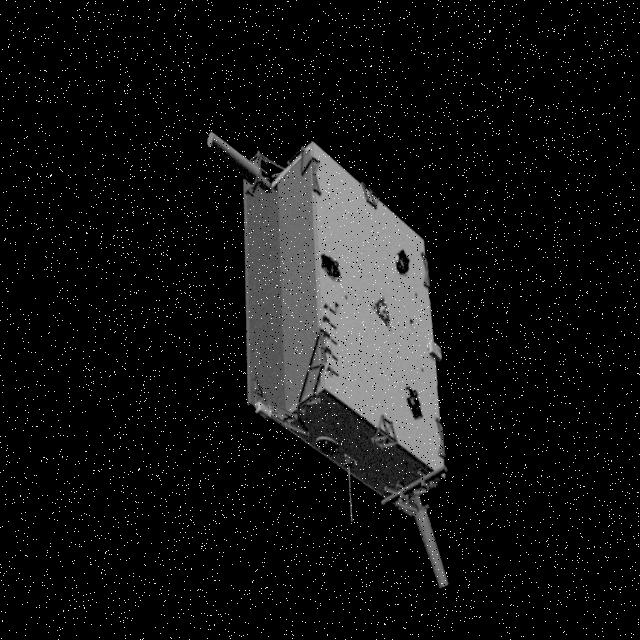medium_debris: (198, 122, 474, 596)
